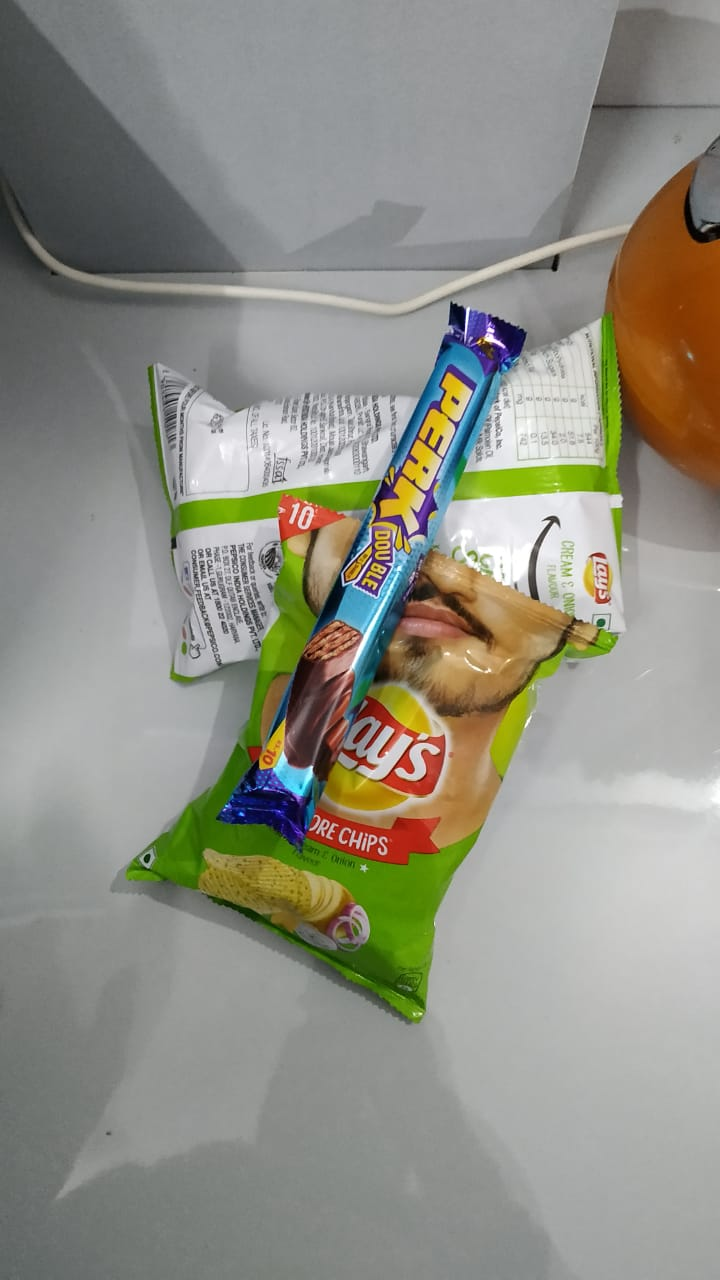lays chips: (125, 504, 603, 1014)
perk: (254, 314, 497, 814)
